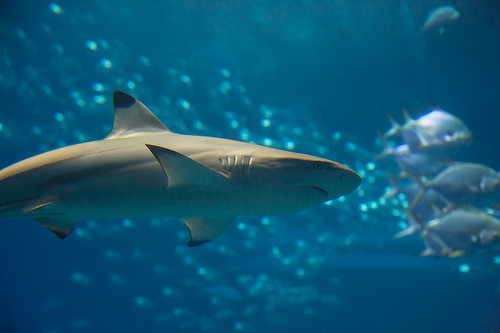shark: (9, 76, 370, 251)
